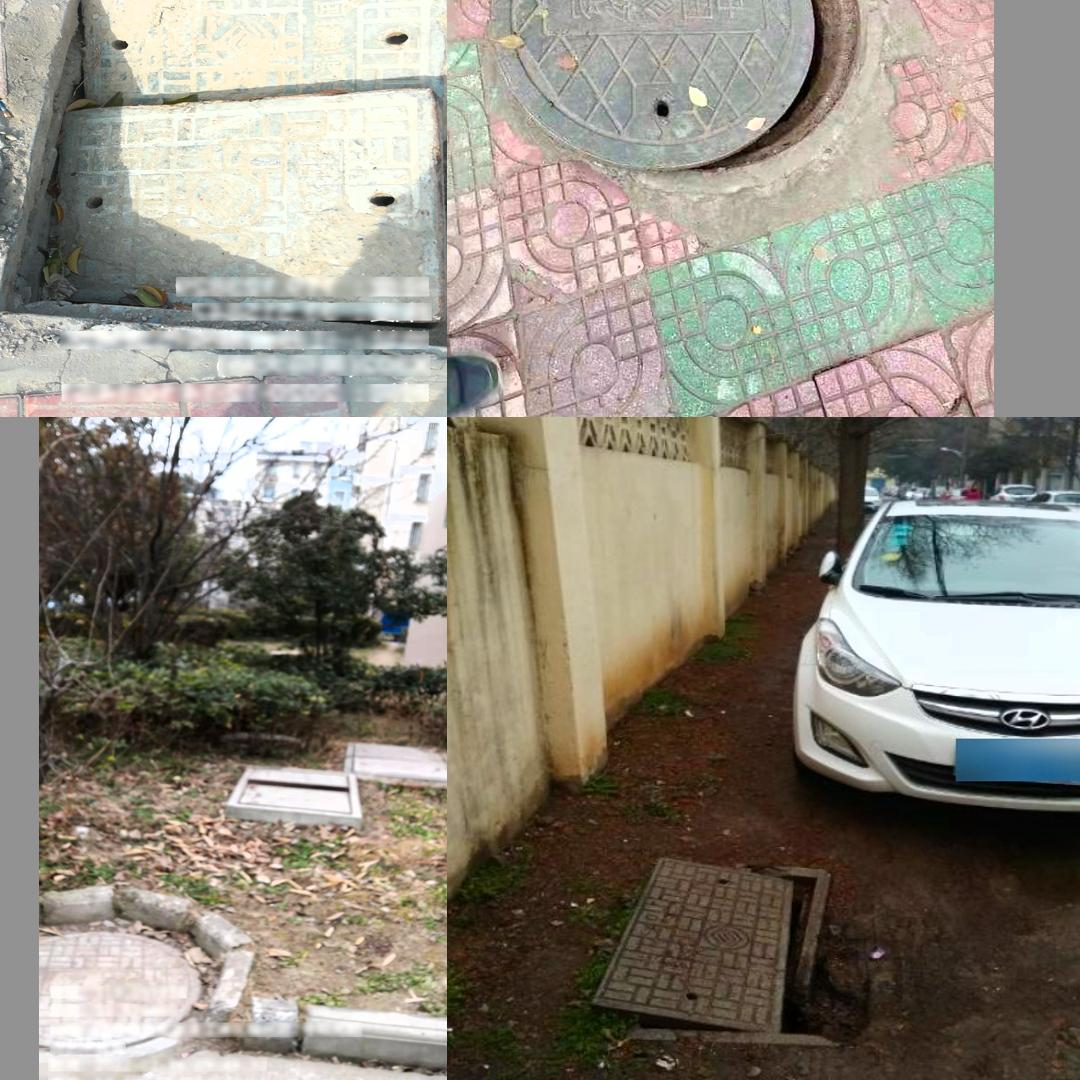good: (41, 929, 216, 1058), (342, 737, 447, 791)
uncovered: (0, 0, 439, 369), (469, 0, 870, 203), (588, 856, 831, 1048), (223, 763, 362, 822)
